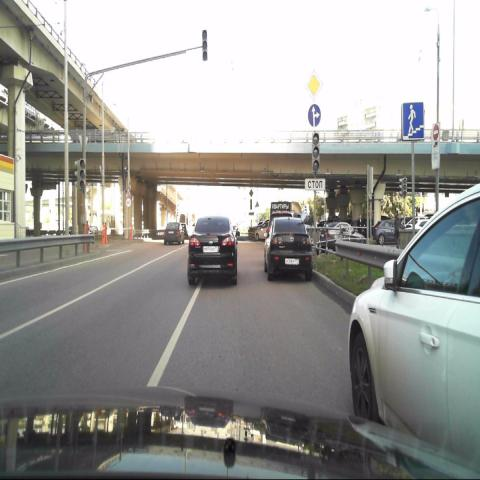6_16: (304, 177, 325, 192)
